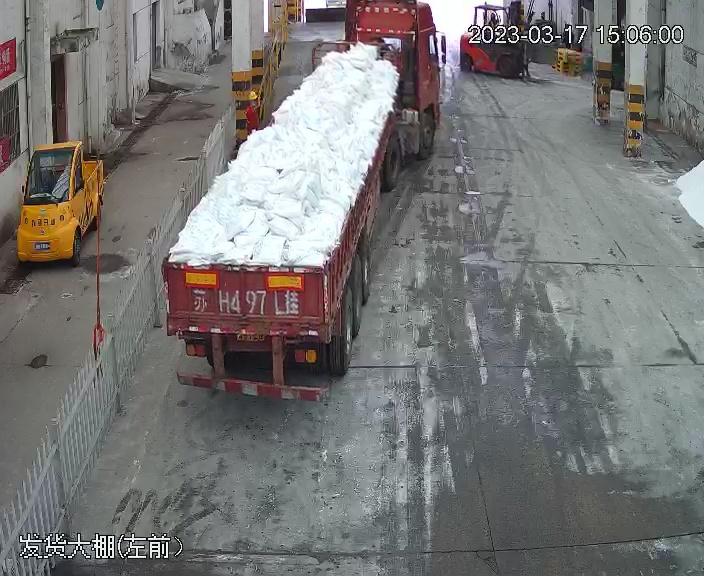truck: (157, 0, 443, 402)
